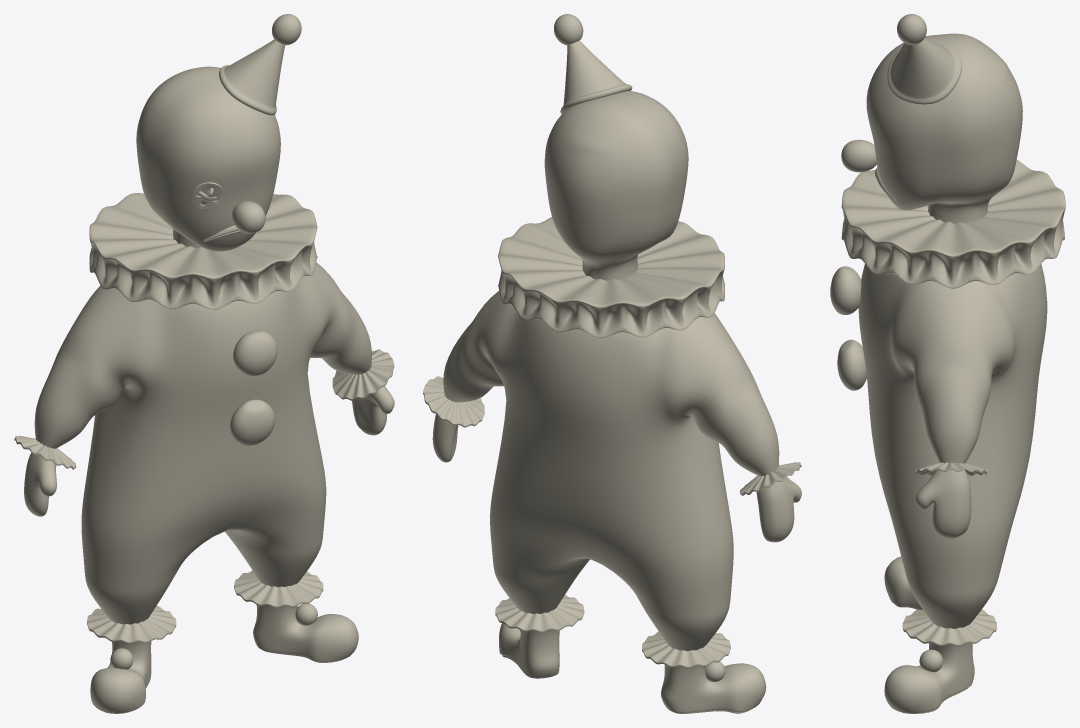
The model's file is clown doll - Copy.fbx.
3 views of the same model, side by side, from view 1: azimuth 30°, elevation 25°; view 2: azimuth 150°, elevation 25°; view 3: azimuth 270°, elevation 25° (orthographic). The views are drawn at different scales.
Visible parts, largest first — view 1: sweep6; view 2: sweep6; view 3: sweep6.
Boxes of the visible parts, bbox=[...] form: sweep6: bbox=[14, 14, 394, 713]; sweep6: bbox=[423, 14, 801, 713]; sweep6: bbox=[830, 14, 1065, 713].
Bounding box in the file's own units: 0.0944 × 0.1591 × 0.0508.
